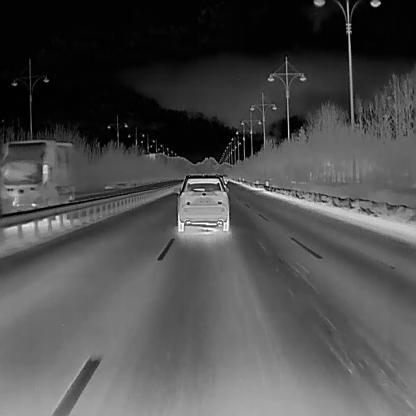car: (172, 172, 228, 232), (221, 175, 227, 182)
truck: (0, 139, 73, 225)
